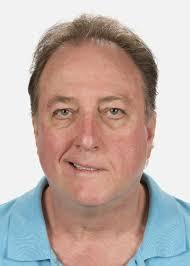strokeEyeWeak: (41, 87, 136, 128)
strokeMouthMid: (53, 152, 114, 180)
